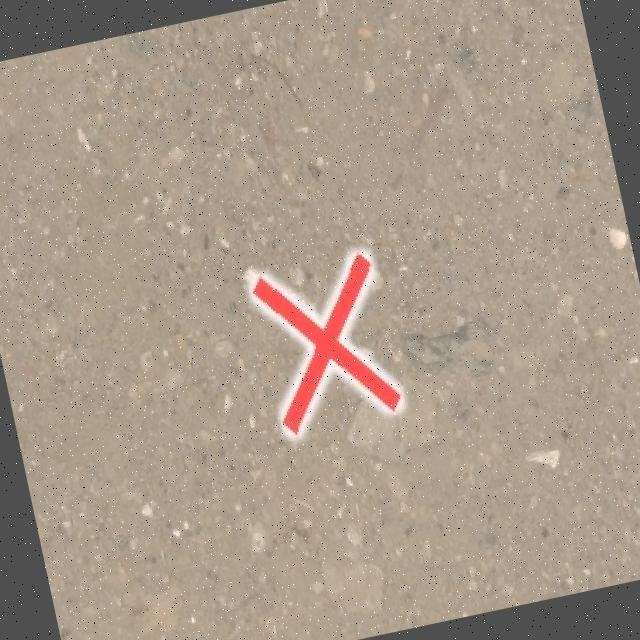x_marker: (248, 252, 402, 436)
